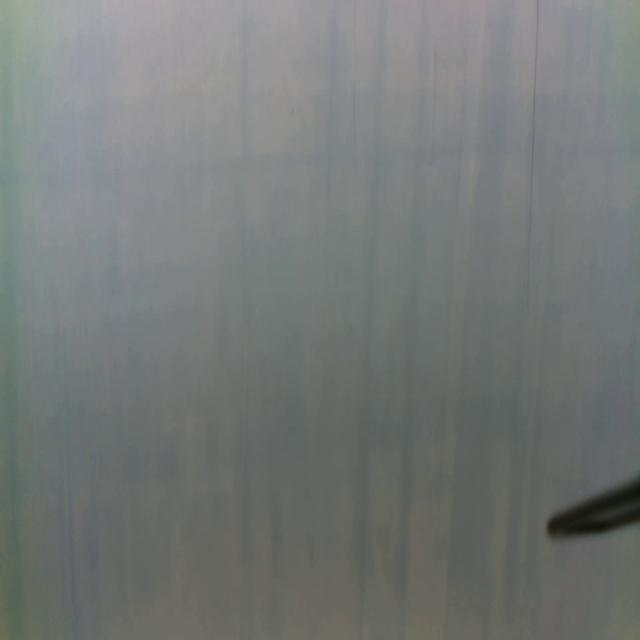crease: (523, 0, 542, 322)
